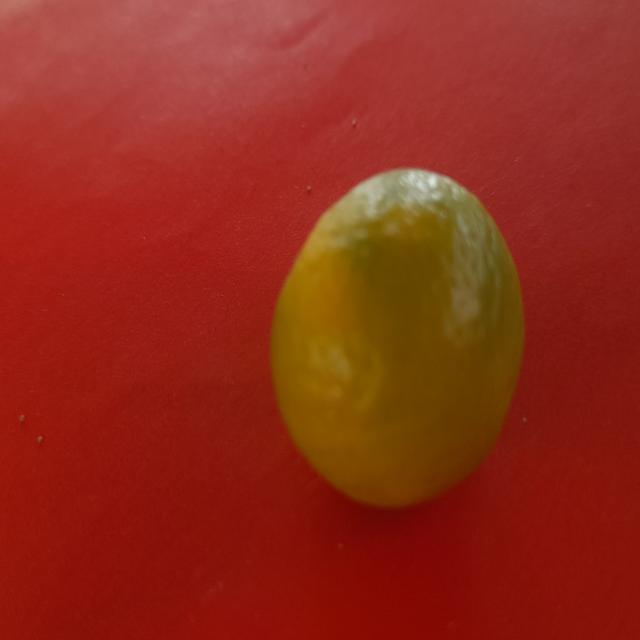greening: (276, 158, 529, 504)
